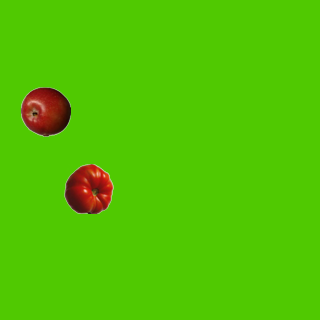Apple Braeburn: (20, 86, 70, 136)
Tomato 3: (63, 163, 113, 213)
